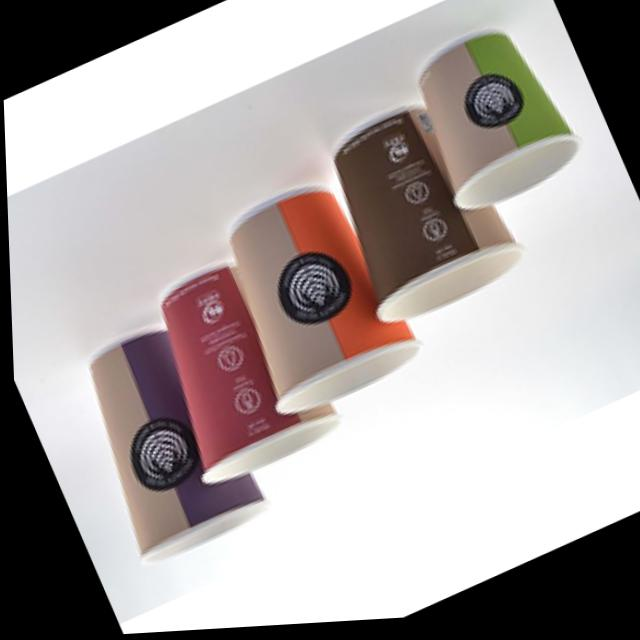paper_cups: (50, 301, 278, 579), (199, 167, 430, 431), (302, 84, 530, 340), (124, 242, 340, 500), (395, 19, 587, 230)
